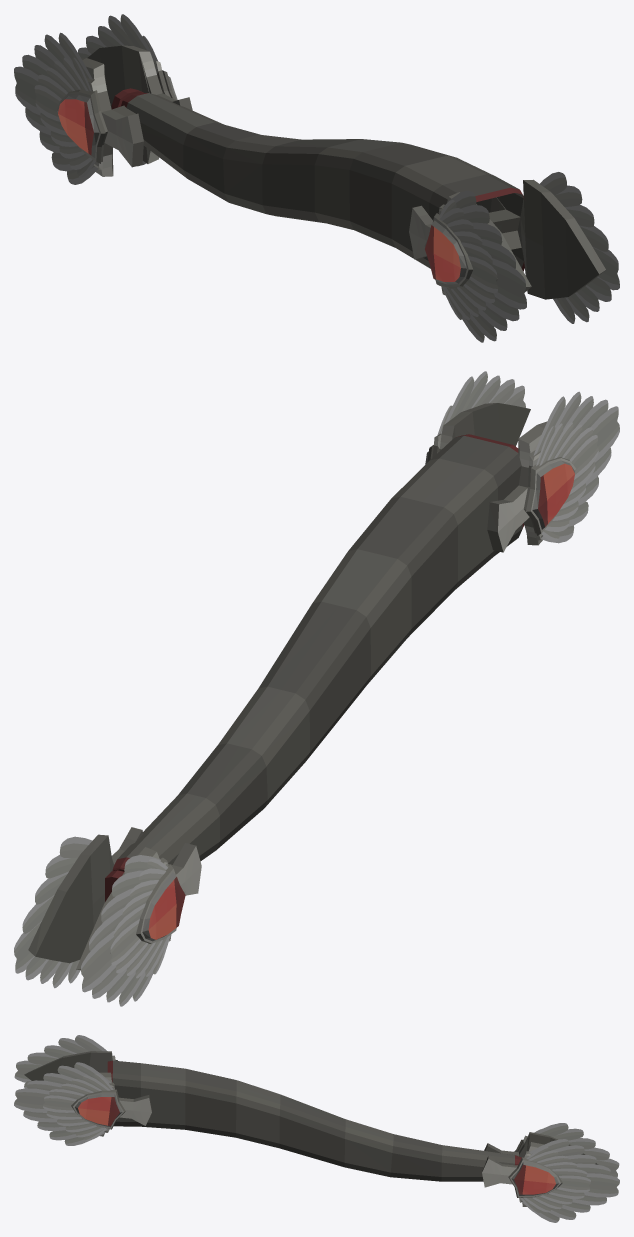
File: repeatingCrossbowLostCrownHandle.glb
The picture shows the model from 3 angles, top to bottom: view 1: azimuth 30°, elevation 25°; view 2: azimuth 150°, elevation 25°; view 3: azimuth 270°, elevation 25°; orthographic projection. The views are drawn at different scales.
Visible parts, largest first — view 1: repeatingCrossbowLostCrownHandle; view 2: repeatingCrossbowLostCrownHandle; view 3: repeatingCrossbowLostCrownHandle.
Boxes of the visible parts, x1,y1,x2,y2 form: repeatingCrossbowLostCrownHandle: (14,14,619,342); repeatingCrossbowLostCrownHandle: (14,371,619,1006); repeatingCrossbowLostCrownHandle: (14,1035,619,1222).
Size of the model in its own units: 0.0778 by 0.1897 by 0.6131.
